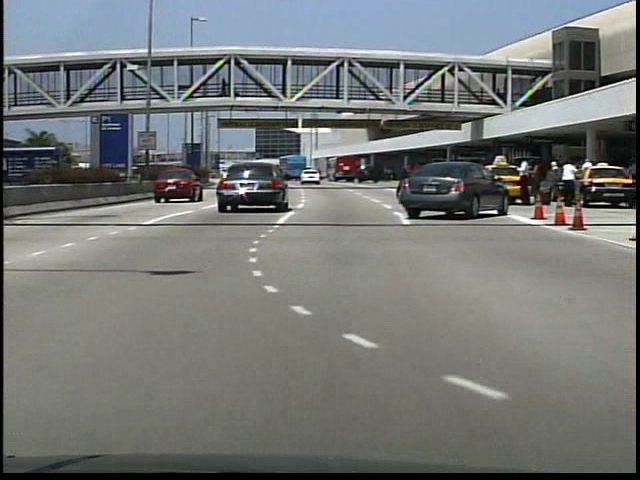person: (557, 158, 581, 209), (515, 156, 534, 211), (545, 159, 564, 204), (219, 78, 231, 102)
